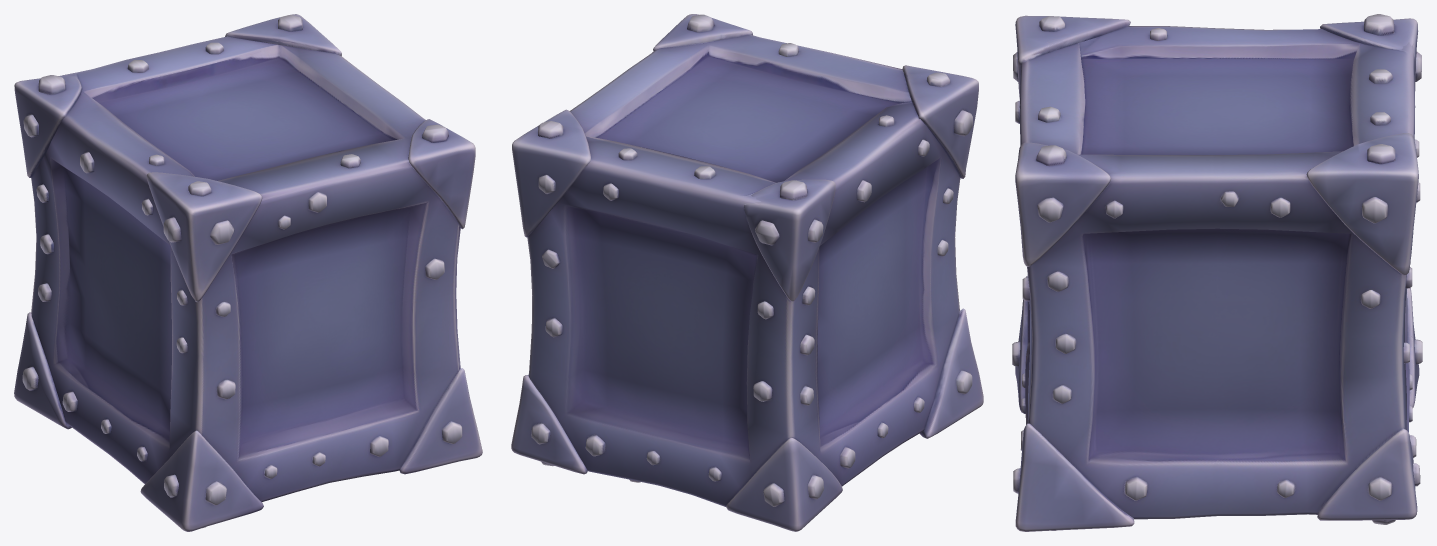
Rendered from metal-sculpt.glb.
3 renders of one model, left to right at view 1: azimuth 30°, elevation 25°; view 2: azimuth 150°, elevation 25°; view 3: azimuth 270°, elevation 25°, orthographic. The views are drawn at different scales.
Parts seen in each view (by area): view 1: tripo_node_1acbae5e-015b-4998-835b-73679555f213; view 2: tripo_node_1acbae5e-015b-4998-835b-73679555f213; view 3: tripo_node_1acbae5e-015b-4998-835b-73679555f213.
Part boxes in pixels (box(x1,y1,x2,y2)): tripo_node_1acbae5e-015b-4998-835b-73679555f213: box(14, 14, 482, 531); tripo_node_1acbae5e-015b-4998-835b-73679555f213: box(511, 14, 983, 531); tripo_node_1acbae5e-015b-4998-835b-73679555f213: box(1012, 14, 1422, 531).
Bounding box in the file's own units: 0.9448 × 1.03 × 0.9985.
1 material, 1 textured.
